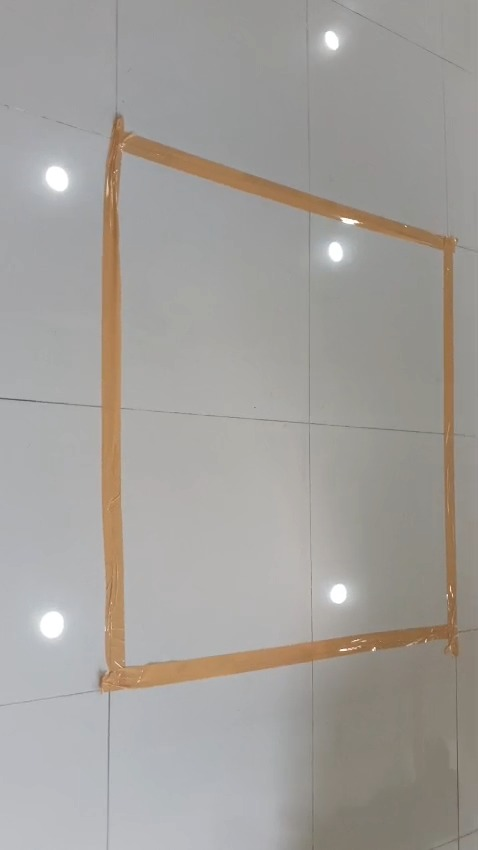floor marking: (101, 116, 455, 689)
